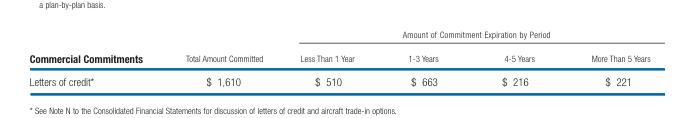table: (28, 28, 649, 87)
table column: (28, 28, 163, 87), (163, 28, 280, 87), (280, 28, 380, 87), (469, 28, 562, 87), (380, 28, 469, 87), (562, 28, 649, 87)
table column header: (28, 28, 649, 69)
table row: (28, 45, 649, 69), (28, 69, 649, 87), (28, 28, 649, 45)
table spanning cell: (280, 28, 649, 45), (28, 28, 163, 69), (163, 28, 280, 69)
